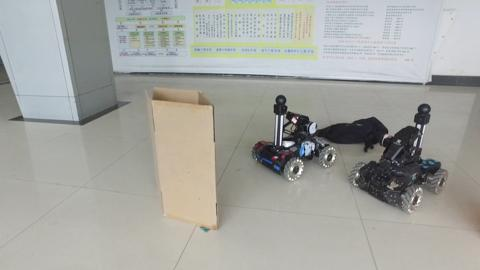box: (146, 85, 225, 234)
chariot: (355, 99, 448, 212), (252, 94, 335, 179)
